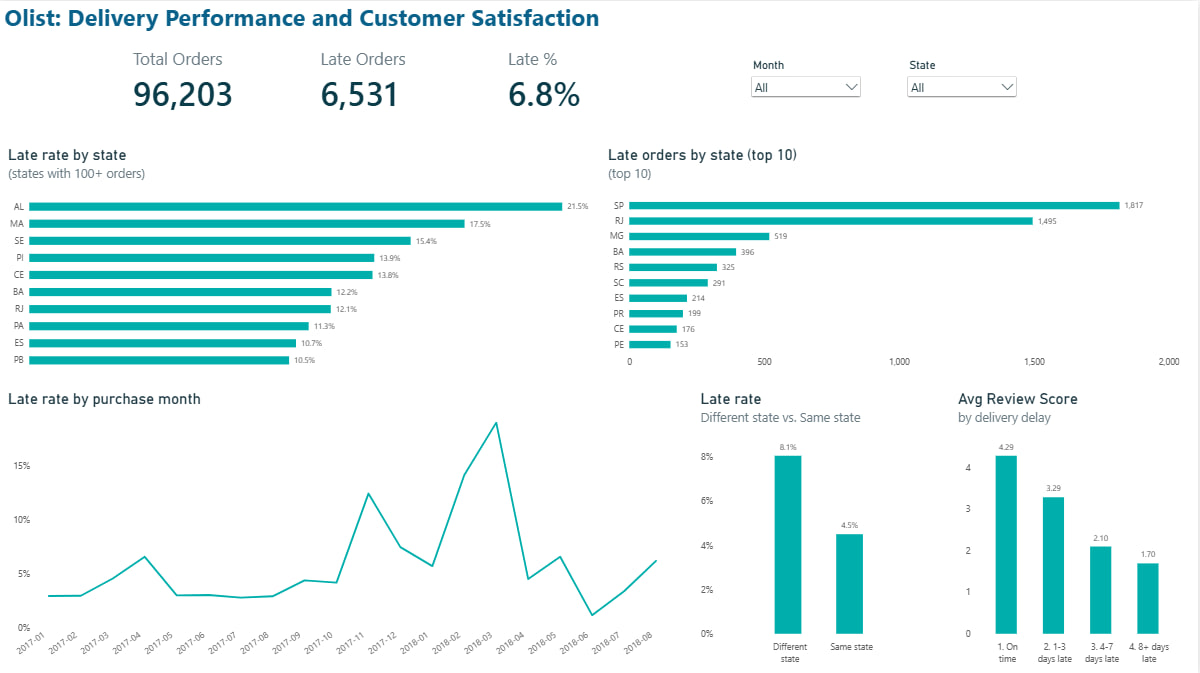

This screenshot's page, from the dashboard's own definition file:
{"tool":"powerbi","page":{"name":"Page 1","canvas":[1920,1080],"ordinal":0},"visuals":[{"type":"cardVisual","fields":{"Data":["powerbi_orders.Total Orders"]},"box":[200,70,230,116.1],"z":0},{"type":"cardVisual","fields":{"Data":["powerbi_orders.Late Orders"]},"box":[500,70,230,116],"z":1000},{"type":"cardVisual","fields":{"Data":["powerbi_orders.Late %"]},"box":[800,70,230,116],"z":2000},{"type":"clusteredBarChart","title":"Late rate by state ","fields":{"Category":["powerbi_orders.customer_state"],"Y":["powerbi_orders.Late %"]},"box":[0,217.9,960.7,391.1],"z":3000},{"type":"clusteredBarChart","fields":{"Category":["powerbi_orders.customer_state","powerbi_orders.category"],"Y":["powerbi_orders.Late Orders"]},"box":[960.7,217.9,946.4,391.1],"z":4000},{"type":"clusteredColumnChart","title":"Avg Review Score","fields":{"Category":["powerbi_orders.delay_group"],"Y":["powerbi_orders.Avg Review Score"]},"box":[1519.7,608.9,387,471.4],"z":5000},{"type":"clusteredColumnChart","title":"Late rate","fields":{"Category":["powerbi_orders.shipping_type"],"Y":["powerbi_orders.Late %"]},"box":[1108.9,608.9,387,471.4],"z":6000},{"type":"lineChart","title":"Late rate by purchase month","fields":{"Category":["powerbi_orders.purchase_month"],"Y":["powerbi_orders.Late %"]},"box":[0,608.9,1089.3,471.4],"z":7000},{"type":"slicer","fields":{"Values":["powerbi_orders.customer_state"]},"box":[1450,92.9,185,70],"z":8000},{"type":"slicer","fields":{"Values":["powerbi_orders.purchase_month"]},"box":[1200,92.9,185.7,70],"z":9000},{"type":"textbox","box":[0,0,973.2,58.9],"z":10000}]}

Visuals, with their boxes in screenshot pixels (x1, y1, x2, y2), scaled from the page's 1920x1080 canvas onto the 1200x673 screenshot:
cardVisual - powerbi_orders.Total Orders: {"left": 125, "top": 44, "right": 269, "bottom": 116}
cardVisual - powerbi_orders.Late Orders: {"left": 312, "top": 44, "right": 456, "bottom": 116}
cardVisual - powerbi_orders.Late %: {"left": 500, "top": 44, "right": 644, "bottom": 116}
"Late rate by state " clusteredBarChart: {"left": 0, "top": 136, "right": 600, "bottom": 379}
clusteredBarChart - powerbi_orders.customer_state x powerbi_orders.category: {"left": 600, "top": 136, "right": 1192, "bottom": 379}
"Avg Review Score" clusteredColumnChart: {"left": 950, "top": 379, "right": 1192, "bottom": 672}
"Late rate" clusteredColumnChart: {"left": 693, "top": 379, "right": 935, "bottom": 672}
"Late rate by purchase month" lineChart: {"left": 0, "top": 379, "right": 681, "bottom": 672}
slicer - powerbi_orders.customer_state: {"left": 906, "top": 58, "right": 1022, "bottom": 102}
slicer - powerbi_orders.purchase_month: {"left": 750, "top": 58, "right": 866, "bottom": 102}
textbox: {"left": 0, "top": 0, "right": 608, "bottom": 37}
